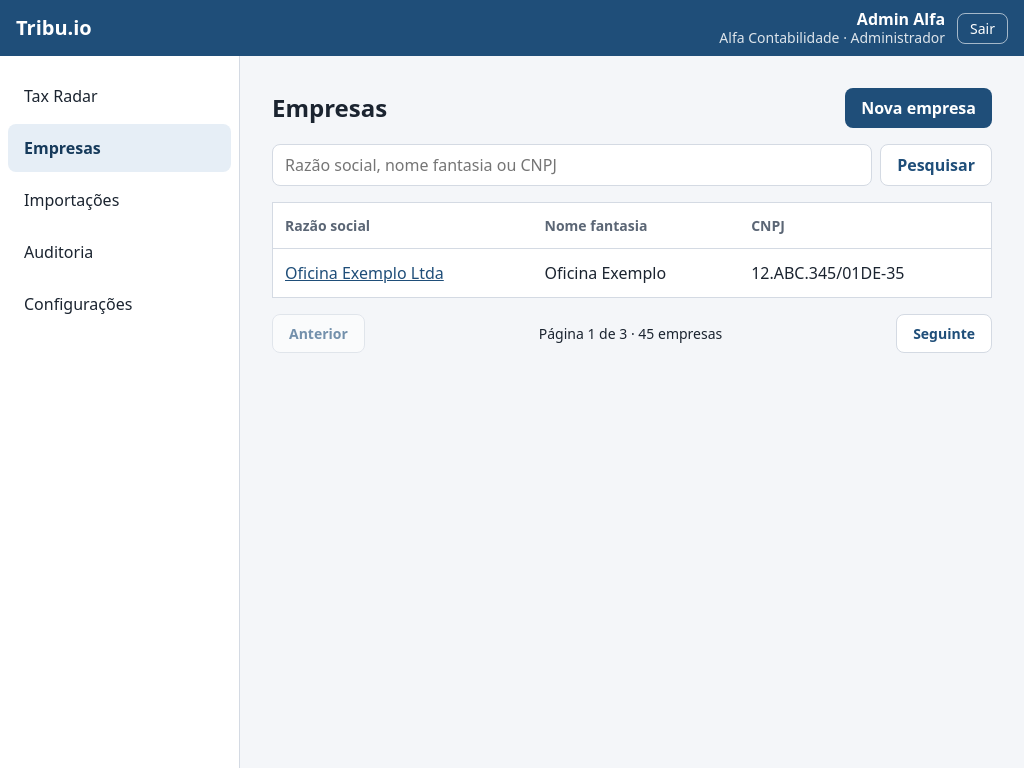
empresas › pagina a lista
The width and height of the screenshot is (1024, 768).
Expected: the text "Página 1 de 3 · 45 empresas" is shown, [539, 323, 722, 344]
Expected: the button "Anterior" is disabled, [272, 314, 365, 353]
Click the button "Seguinte" at (944,334), box [896, 314, 992, 353]
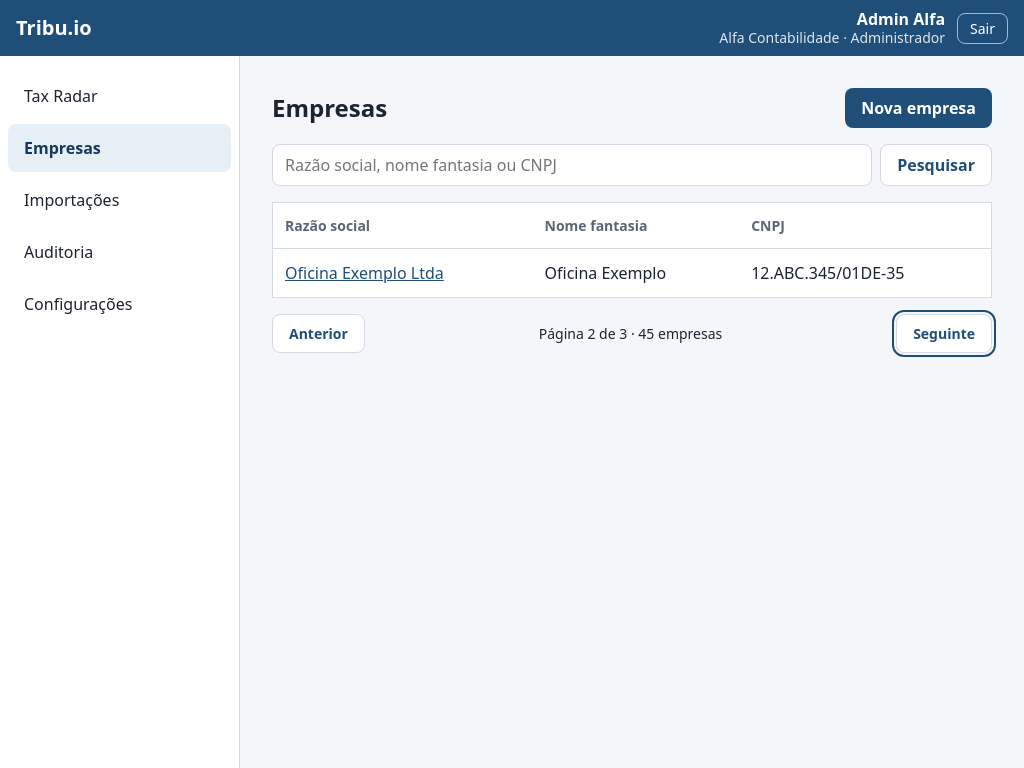
Expected: the text "Página 2 de 3 · 45 empresas" is shown, [539, 323, 722, 344]
